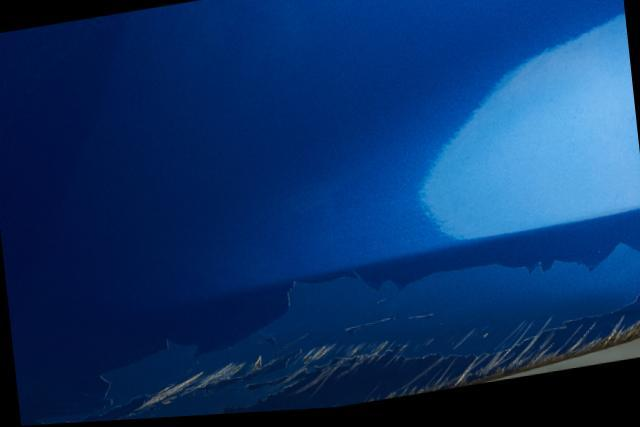scratch: (119, 304, 640, 421)
